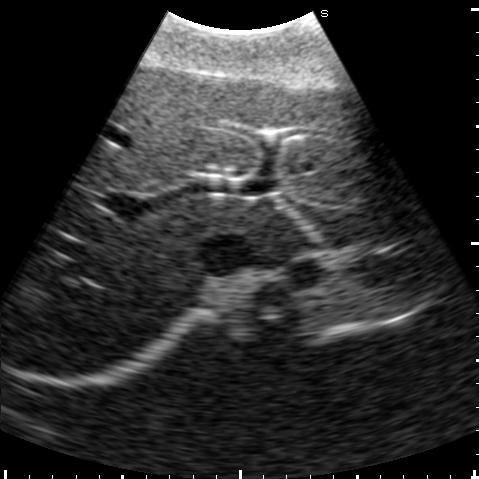IVC: (196, 233, 251, 278)
S1: (240, 202, 297, 254)
S2: (279, 193, 426, 246)
S3: (269, 86, 411, 203)
S4: (74, 68, 290, 193)
